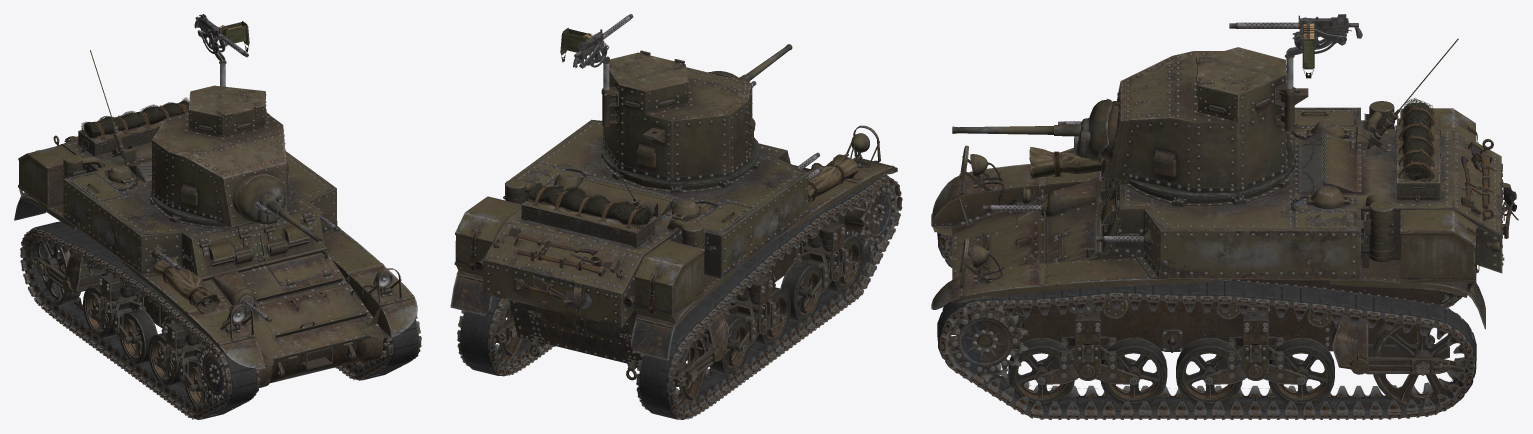
File: m3_stuart_war_thunder.glb
The picture shows the model from 3 angles, left to right: view 1: azimuth 30°, elevation 25°; view 2: azimuth 150°, elevation 25°; view 3: azimuth 270°, elevation 25°; orthographic projection. The views are drawn at different scales.
Parts seen in each view (by area): view 1: Object_23, Object_26, Object_21, Object_24, Object_7, Object_22, Object_20, Object_19, Object_18, Object_16, Object_15, Object_4 (+4 smaller); view 2: Object_23, Object_26, Object_21, Object_7, Object_24, Object_19, Object_20, Object_18, Object_16, Object_4, Object_2, Object_10 (+5 smaller); view 3: Object_23, Object_4, Object_26, Object_21, Object_24, Object_16, Object_17, Object_18, Object_20, Object_22, Object_15, Object_12 (+5 smaller).
Part boxes in pixels (bbox=[...]): Object_23: bbox=[52, 122, 387, 376]; Object_26: bbox=[151, 61, 293, 226]; Object_21: bbox=[14, 119, 417, 368]; Object_24: bbox=[53, 135, 383, 388]; Object_7: bbox=[20, 221, 260, 419]; Object_22: bbox=[191, 233, 334, 340]; Object_20: bbox=[64, 103, 324, 313]; Object_19: bbox=[36, 226, 250, 407]; Object_18: bbox=[119, 310, 389, 407]; Object_16: bbox=[30, 252, 386, 391]; Object_15: bbox=[236, 174, 322, 243]; Object_4: bbox=[335, 315, 421, 380]; Object_23: bbox=[480, 119, 845, 380]; Object_26: bbox=[601, 50, 759, 186]; Object_21: bbox=[454, 154, 897, 360]; Object_7: bbox=[636, 175, 902, 419]; Object_24: bbox=[490, 123, 845, 365]; Object_19: bbox=[671, 180, 898, 405]; Object_20: bbox=[450, 153, 858, 315]; Object_18: bbox=[754, 233, 863, 345]; Object_16: bbox=[675, 237, 858, 386]; Object_4: bbox=[457, 296, 555, 376]; Object_2: bbox=[525, 183, 653, 229]; Object_10: bbox=[528, 184, 651, 224]; Object_23: bbox=[949, 101, 1508, 380]; Object_4: bbox=[937, 279, 1476, 419]; Object_26: bbox=[1100, 47, 1308, 199]; Object_21: bbox=[931, 108, 1499, 309]; Object_24: bbox=[952, 110, 1518, 380]; Object_16: bbox=[1008, 337, 1334, 407]; Object_17: bbox=[1036, 313, 1466, 407]; Object_18: bbox=[942, 299, 1332, 382]; Object_20: bbox=[1029, 106, 1516, 329]; Object_22: bbox=[959, 145, 1114, 262]; Object_15: bbox=[952, 99, 1112, 162]; Object_12: bbox=[983, 14, 1362, 241].
Bounding box in the file's own units: 2.26 × 3.12 × 4.51.
17 materials, 17 textured.
